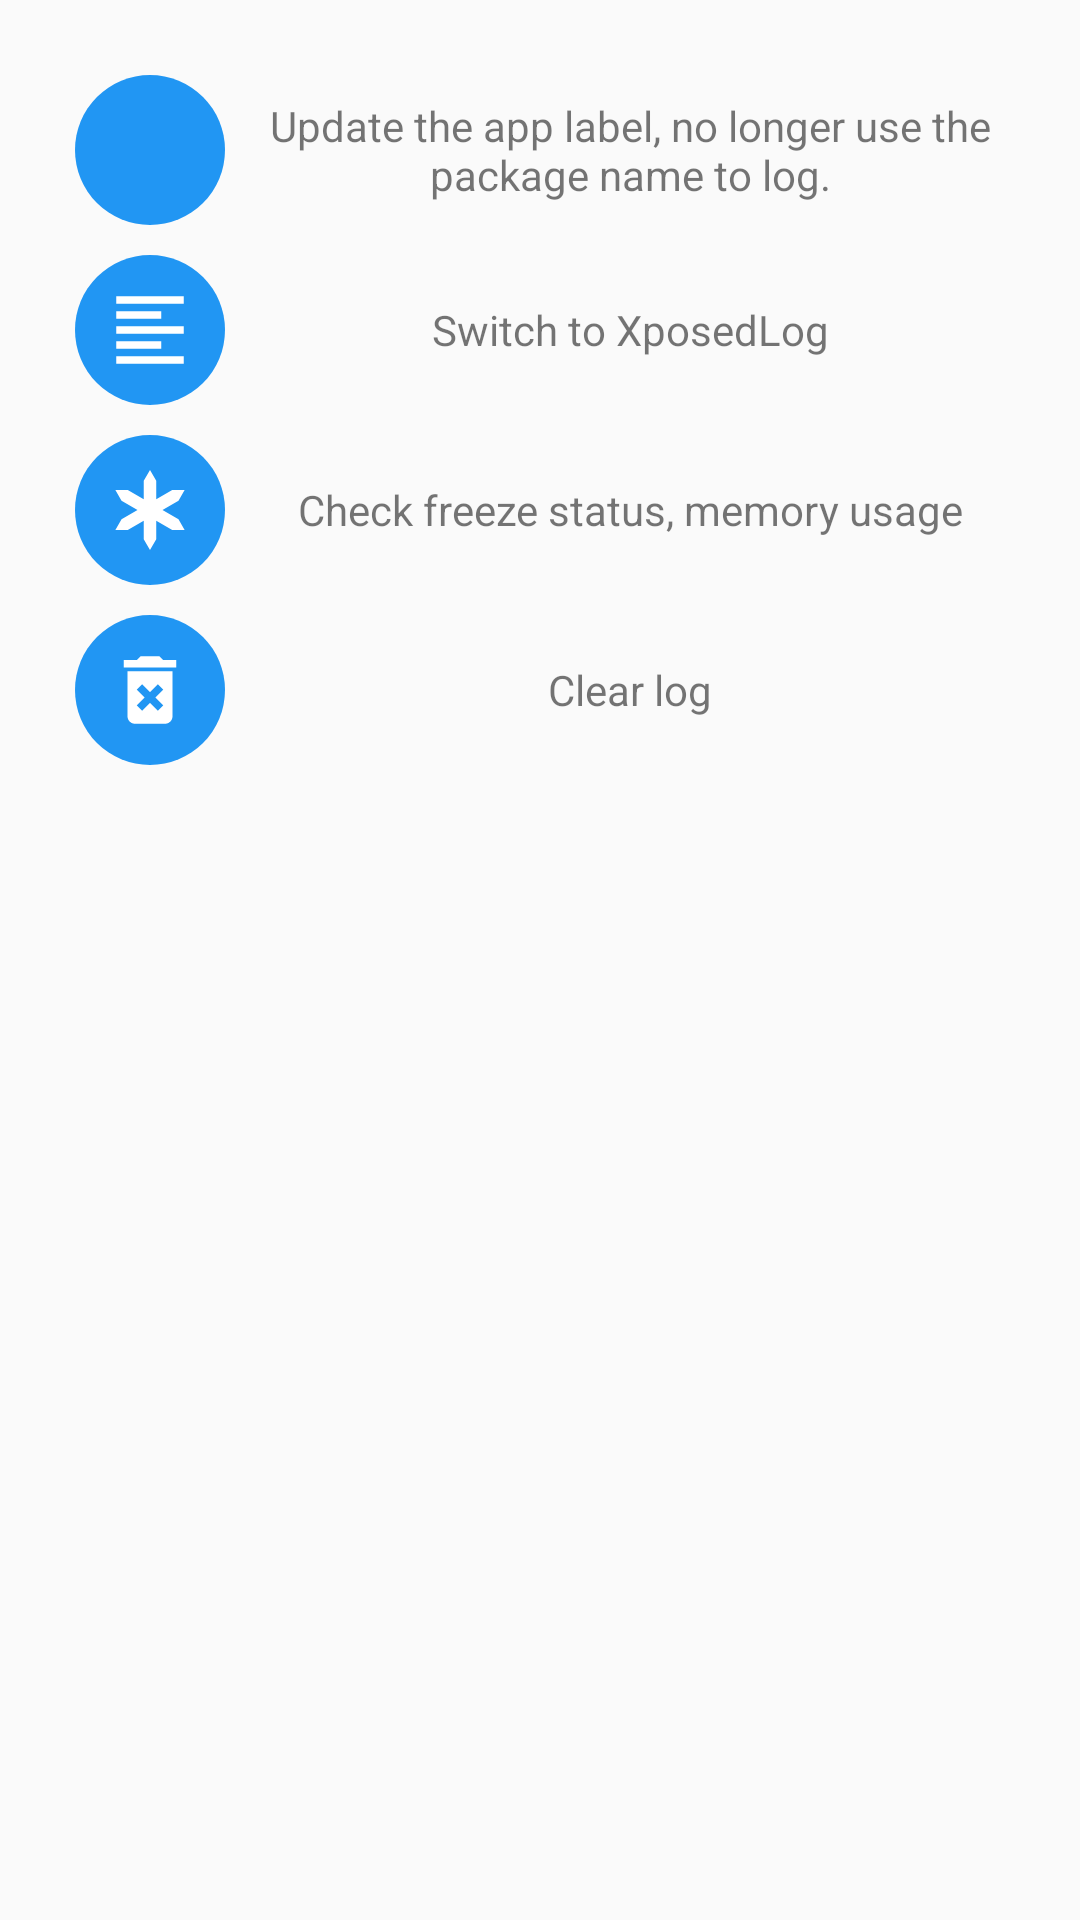

Locate icon controls on the screen. Image size 1080x1920, boxes as (x1, y1, x2, y2).
freezeit: (75, 435, 225, 585)
